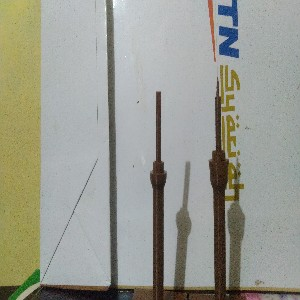obeng: (149, 90, 168, 300)
solder: (208, 74, 230, 300)
